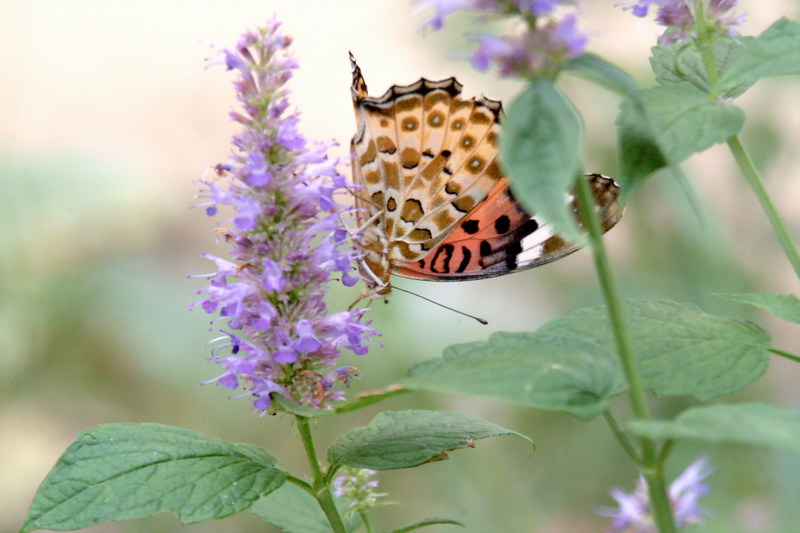Argyreus hyperbius: (338, 49, 631, 328)
butterfly: (336, 47, 629, 326)
